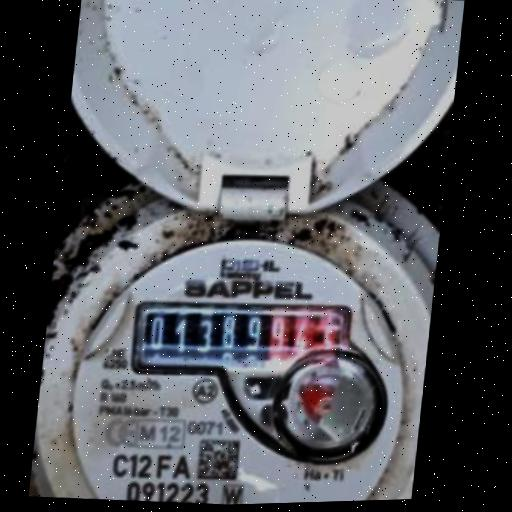0: (143, 311, 174, 360)
1: (168, 312, 199, 361)
3: (190, 312, 222, 362)
4: (290, 316, 317, 364)
5: (313, 312, 344, 363)
8: (214, 311, 246, 362)
9: (241, 313, 273, 365), (266, 316, 295, 367)
border_water_meter_number: (125, 289, 352, 390)
